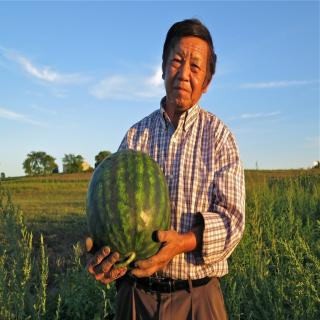Watermelon: (86, 148, 170, 272)
